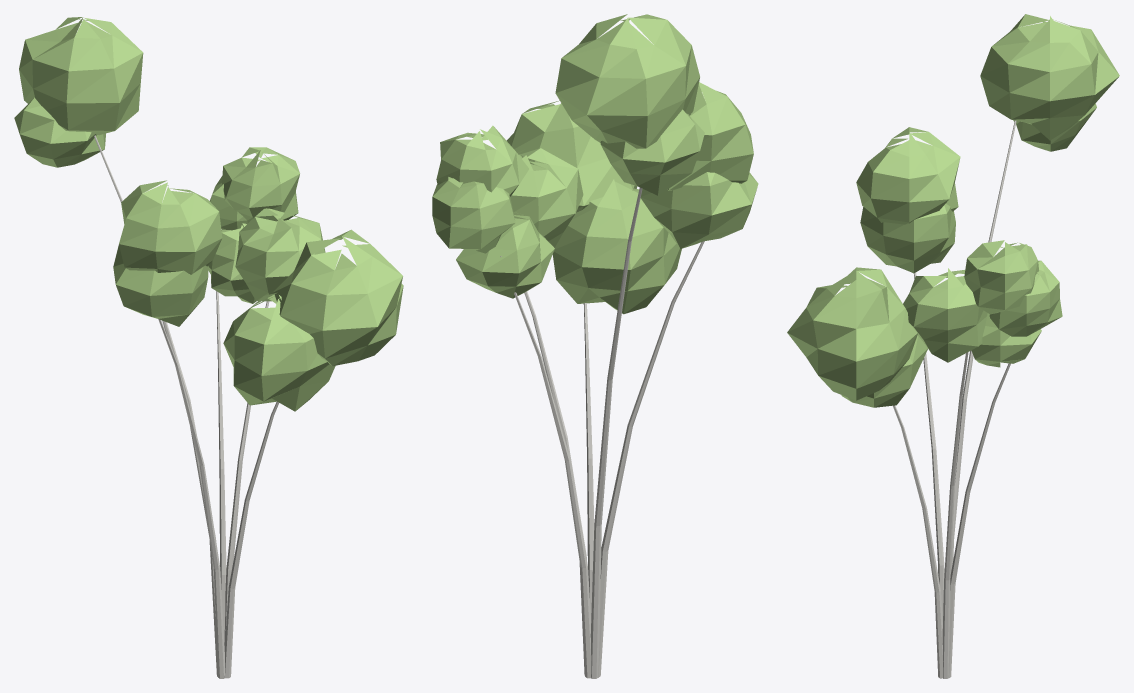
File: temperate-forest-ecology-birch-sapling-group-6b8742c1__3813.glb
3 renders of one model, left to right at view 1: azimuth 30°, elevation 25°; view 2: azimuth 150°, elevation 25°; view 3: azimuth 270°, elevation 25°, orthographic. The views are drawn at different scales.
Parts seen in each view (by area): view 1: birch-sapling-group; view 2: birch-sapling-group; view 3: birch-sapling-group.
Boxes of the visible parts, x1=… form: birch-sapling-group: x1=14, y1=17, x2=403, y2=678; birch-sapling-group: x1=432, y1=14, x2=758, y2=678; birch-sapling-group: x1=787, y1=14, x2=1119, y2=678.
Bounding box in the file's own units: 1.27 × 2.76 × 1.34.
